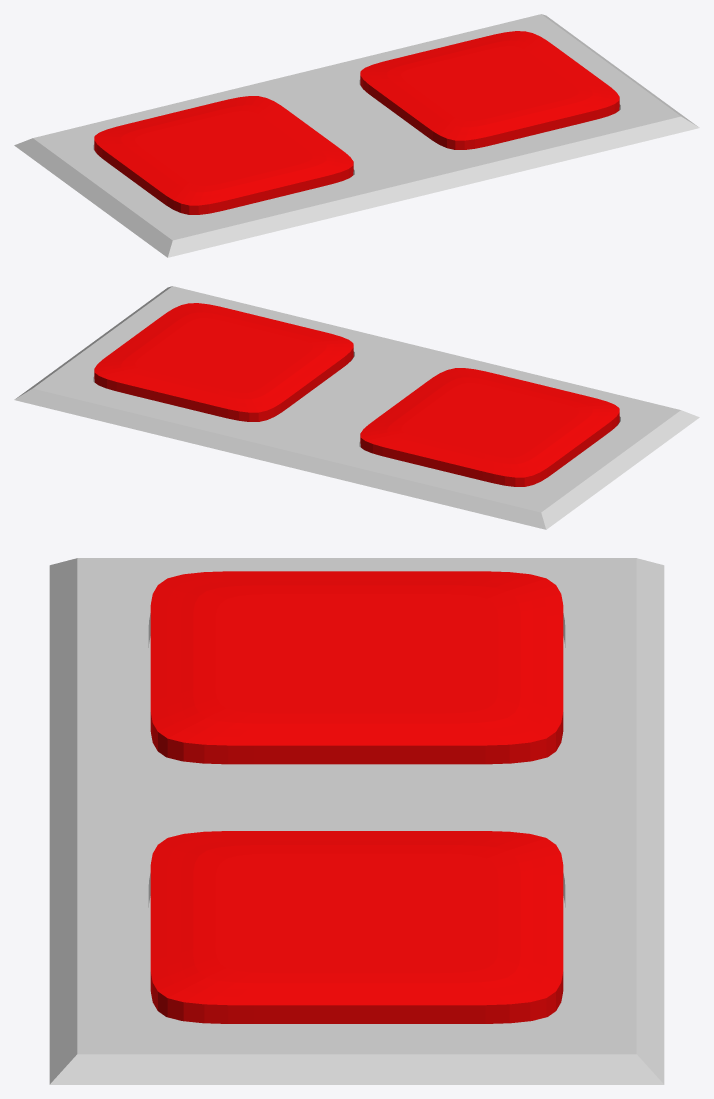
File: props.fbx_b21.fbx
The picture shows the model from 3 angles, top to bottom: view 1: azimuth 30°, elevation 25°; view 2: azimuth 150°, elevation 25°; view 3: azimuth 270°, elevation 25°; orthographic projection. The views are drawn at different scales.
Parts seen in each view (by area): view 1: Plane.034, Plane.033, Plane.035; view 2: Plane.034, Plane.033, Plane.035; view 3: Plane.034, Plane.033, Plane.035.
Part boxes in pixels (left/top/right/bottom): Plane.034: left=14, top=14, right=699, bottom=257; Plane.033: left=94, top=96, right=353, bottom=214; Plane.035: left=360, top=31, right=619, bottom=149; Plane.034: left=14, top=286, right=699, bottom=529; Plane.033: left=360, top=368, right=619, bottom=486; Plane.035: left=94, top=303, right=353, bottom=421; Plane.034: left=49, top=558, right=664, bottom=1084; Plane.033: left=150, top=571, right=563, bottom=764; Plane.035: left=150, top=831, right=563, bottom=1023.
Bounding box in the file's own units: 2.99 × 0.1238 × 1.5.
